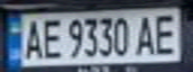0: (112, 14, 133, 57)
3: (81, 15, 100, 58), (96, 15, 115, 57)
9: (63, 15, 84, 58)
A: (133, 12, 160, 57), (18, 16, 45, 61)
E: (151, 11, 181, 56), (39, 16, 63, 61)
